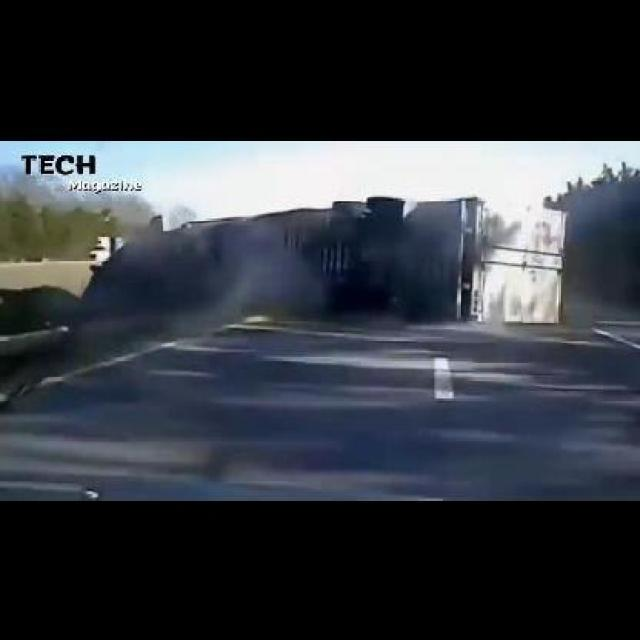accident: (159, 196, 564, 327)
